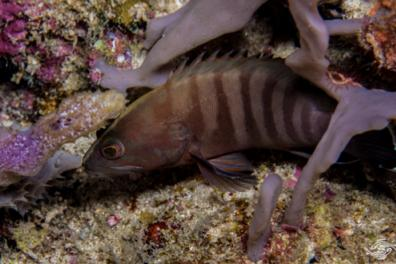Serranidae -Groupers-: (77, 47, 367, 187)
